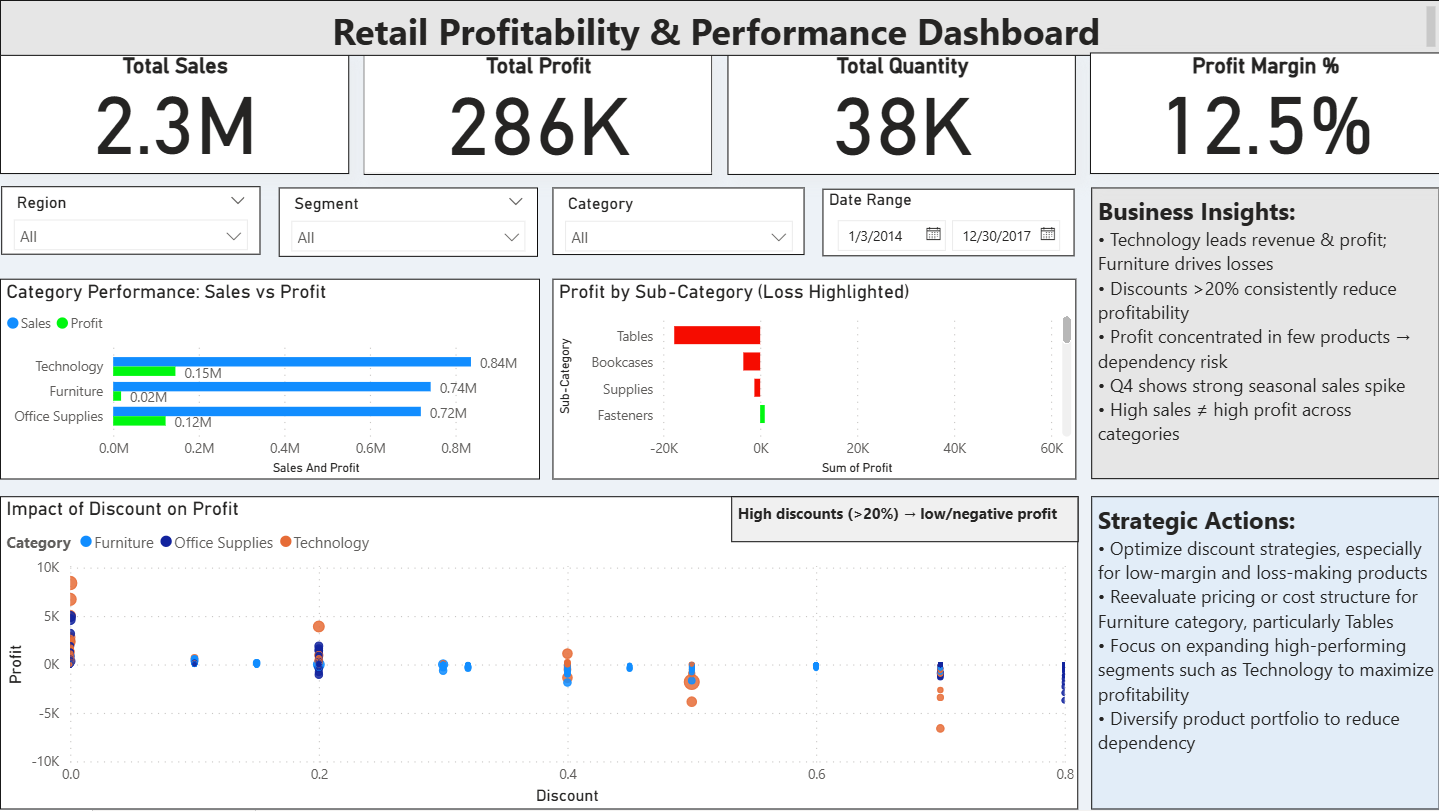

What the dashboard file says about the page in this screenshot:
{"tool":"powerbi","page":{"name":"Executive Dashboard","canvas":[1280,720],"ordinal":0},"visuals":[{"type":"card","title":"Total Sales","fields":{"Values":["Sample - Superstore.Total Sales"]},"box":[0,46.3,310,108],"z":0},{"type":"card","title":"Total Profit","fields":{"Values":["Sum(Sample - Superstore.Profit)"]},"box":[323.2,46.3,309.9,108.5],"z":1000},{"type":"card","title":"Total Quantity","fields":{"Values":["Sum(Sample - Superstore.Quantity)"]},"box":[646.4,46.3,309.9,108.5],"z":2000},{"type":"clusteredBarChart","title":"Category Performance: Sales vs Profit","fields":{"Category":["Sample - Superstore.Category"],"Y":["Sum(Sample - Superstore.Sales)","Sum(Sample - Superstore.Profit)"]},"box":[0,247.2,480,178.5],"z":3000},{"type":"barChart","title":"Profit by Sub-Category (Loss Highlighted)","fields":{"Category":["Sample - Superstore.Sub-Category"],"Y":["Sum(Sample - Superstore.Profit)"]},"box":[490.9,247.2,465.5,178.5],"z":4000},{"type":"scatterChart","title":"Impact of Discount on Profit","fields":{"X":["Sample - Superstore.Discount"],"Y":["Sample - Superstore.Profit"],"Size":["Sum(Sample - Superstore.Sales)"],"Series":["Sample - Superstore.Category"]},"box":[0,441.4,958.8,278.6],"z":5000},{"type":"textbox","box":[0,0,1280.3,49.4],"z":6000},{"type":"textbox","box":[969.6,166.4,309.9,259.3],"z":7000},{"type":"card","title":"Profit Margin %","fields":{"Values":["Sample - Superstore.Profit Margin"]},"box":[969,46.3,311,108],"z":8000},{"type":"textbox","box":[969.6,441.4,309.9,278.6],"z":9000},{"type":"slicer","fields":{"Values":["Sample - Superstore.Region"]},"box":[1.4,165.9,230,61],"z":10000},{"type":"slicer","fields":{"Values":["Sample - Superstore.Segment"]},"box":[247.2,166.4,230.4,61.5],"z":11000},{"type":"slicer","fields":{"Values":["Sample - Superstore.Category"]},"box":[490.9,166.4,224.3,60.3],"z":12000},{"type":"slicer","title":"Date Range","fields":{"Values":["Sample - Superstore.Order Date"]},"box":[730.9,167.6,224,60.3],"z":13000},{"type":"textbox","box":[650.1,441.4,308.7,41],"z":14000}]}

Visuals, with their boxes in screenshot pixels (x1, y1, x2, y2), scaled from the page's 1280x720 canvas onto the 1439x811 screenshot:
"Total Sales" card: rect(0, 52, 349, 174)
"Total Profit" card: rect(363, 52, 712, 174)
"Total Quantity" card: rect(727, 52, 1075, 174)
"Category Performance: Sales vs Profit" clusteredBarChart: rect(0, 278, 540, 480)
"Profit by Sub-Category (Loss Highlighted)" barChart: rect(552, 278, 1075, 480)
"Impact of Discount on Profit" scatterChart: rect(0, 497, 1078, 810)
textbox: rect(0, 0, 1438, 56)
textbox: rect(1090, 187, 1438, 480)
"Profit Margin %" card: rect(1089, 52, 1438, 174)
textbox: rect(1090, 497, 1438, 810)
slicer - Sample - Superstore.Region: rect(2, 187, 260, 256)
slicer - Sample - Superstore.Segment: rect(278, 187, 537, 257)
slicer - Sample - Superstore.Category: rect(552, 187, 804, 255)
"Date Range" slicer: rect(822, 189, 1074, 257)
textbox: rect(731, 497, 1078, 543)
